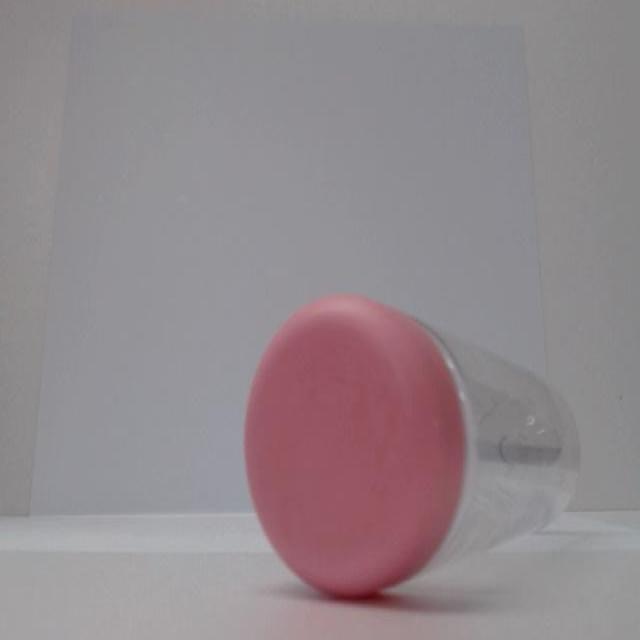bottle: (215, 301, 592, 595)
